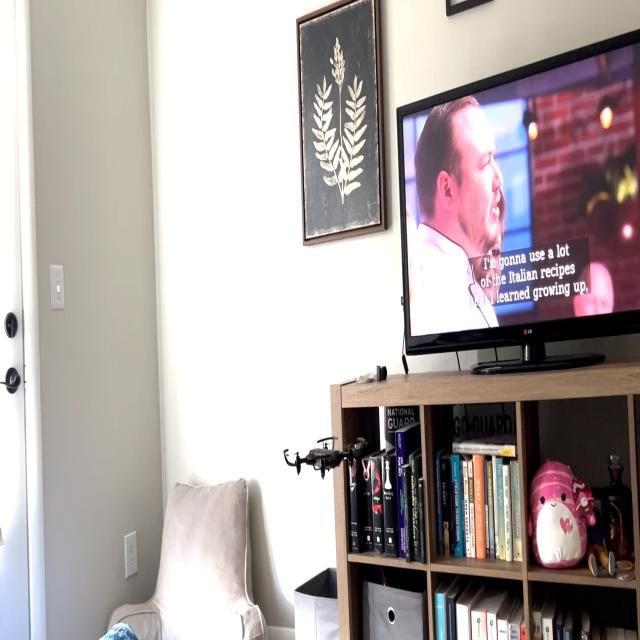drone: (276, 428, 371, 488)
